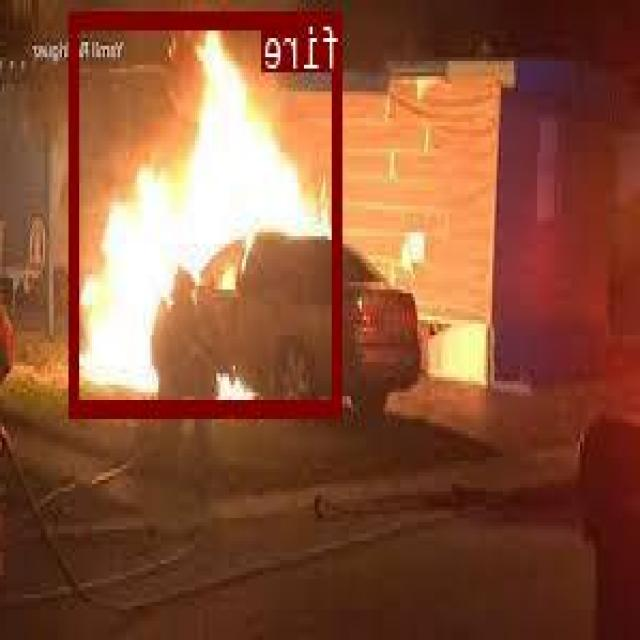fire: (73, 11, 344, 412)
